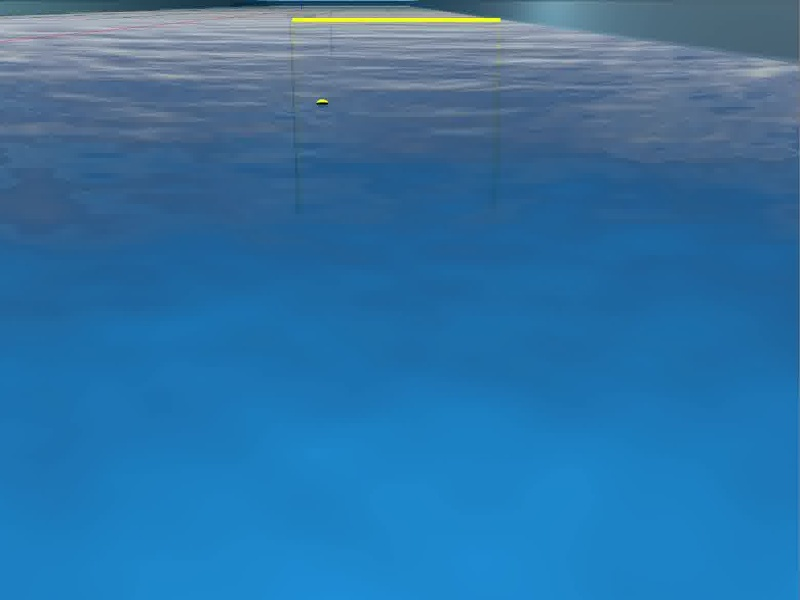gate: (287, 13, 505, 220)
